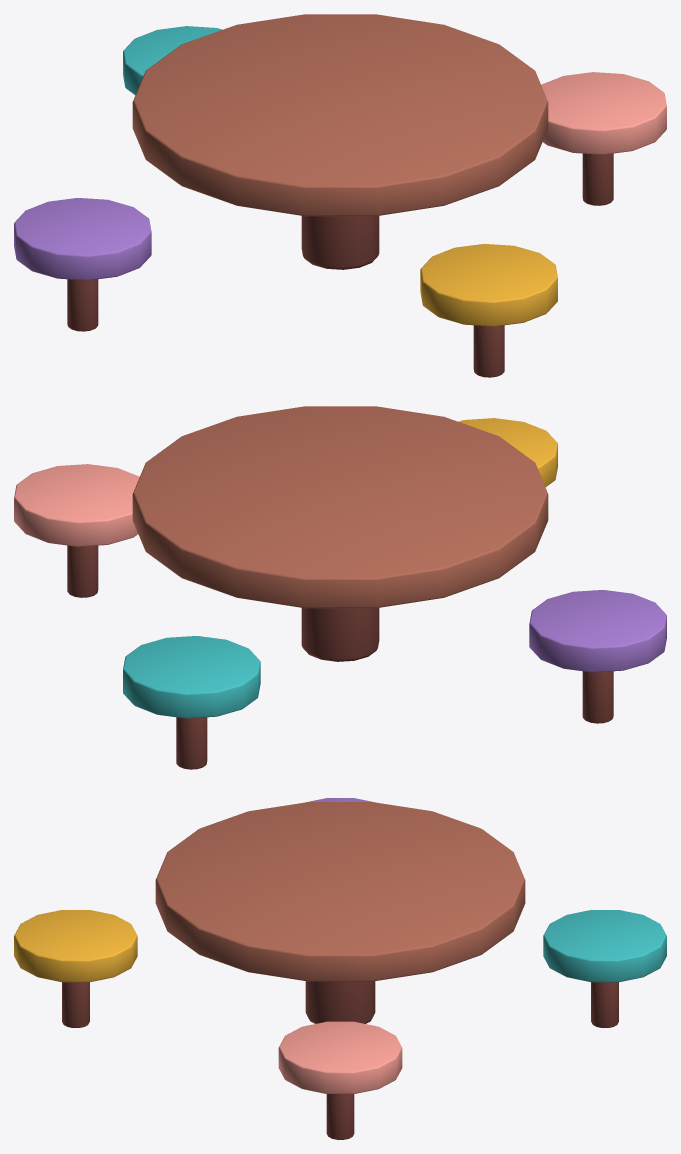
Rendered from r039_castle_kitchen_table_and_stools_table.glb.
3 renders of one model, top to bottom at view 1: azimuth 30°, elevation 25°; view 2: azimuth 150°, elevation 25°; view 3: azimuth 270°, elevation 25°, orthographic. The views are drawn at different scales.
Visible parts, largest first — view 1: r039_castle_kitchen_table_and_stools_table.001; view 2: r039_castle_kitchen_table_and_stools_table.001; view 3: r039_castle_kitchen_table_and_stools_table.001.
Boxes of the visible parts, x1,y1,x2,y2 form: r039_castle_kitchen_table_and_stools_table.001: (14, 14, 666, 377); r039_castle_kitchen_table_and_stools_table.001: (14, 406, 666, 769); r039_castle_kitchen_table_and_stools_table.001: (14, 798, 666, 1139).
Size of the model in its own units: 6.51 by 1.6 by 6.54.
